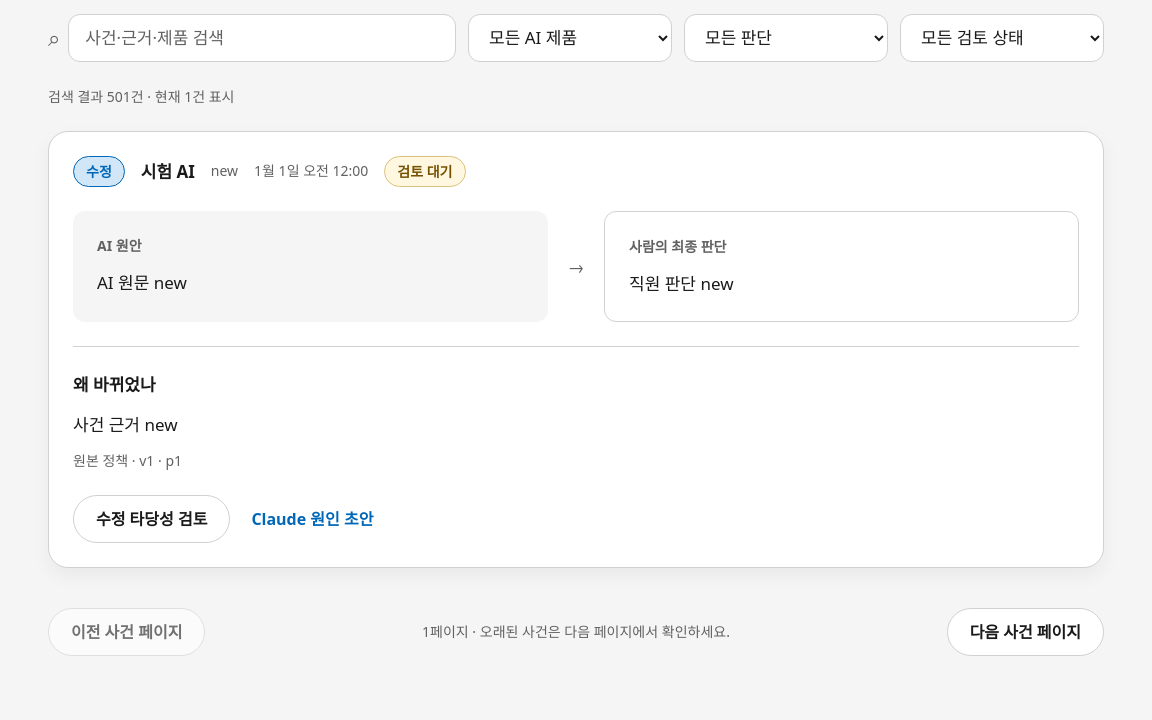
Scenario: reaches a previous event page and submits the old source for actual validation
(page scrolled)
Check: the text "AI 원문 new" is shown, box [97, 271, 187, 294]
Click the button "다음 사건 페이지".
click(1025, 632)  # box [947, 608, 1104, 656]
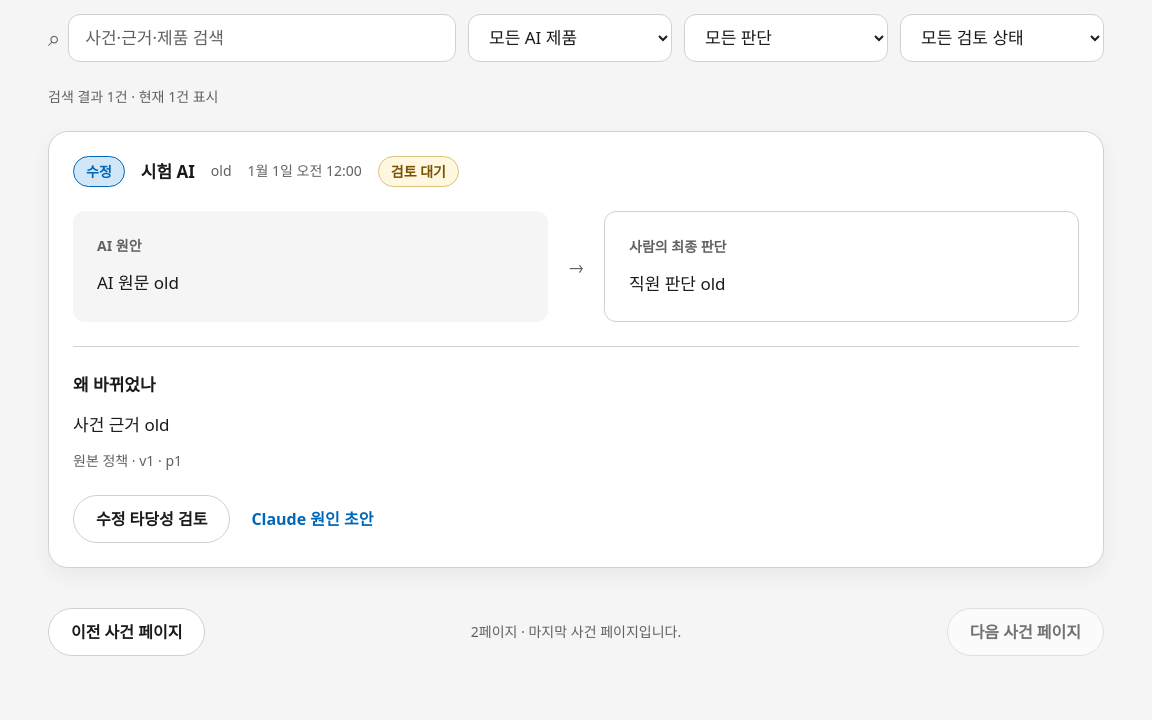
Check: the text "AI 원문 old" is shown, box [97, 271, 179, 294]
Check: the text "AI 원문 new" is gone
Click the button "수정 타당성 검토".
click(152, 519)  # box [73, 495, 230, 543]
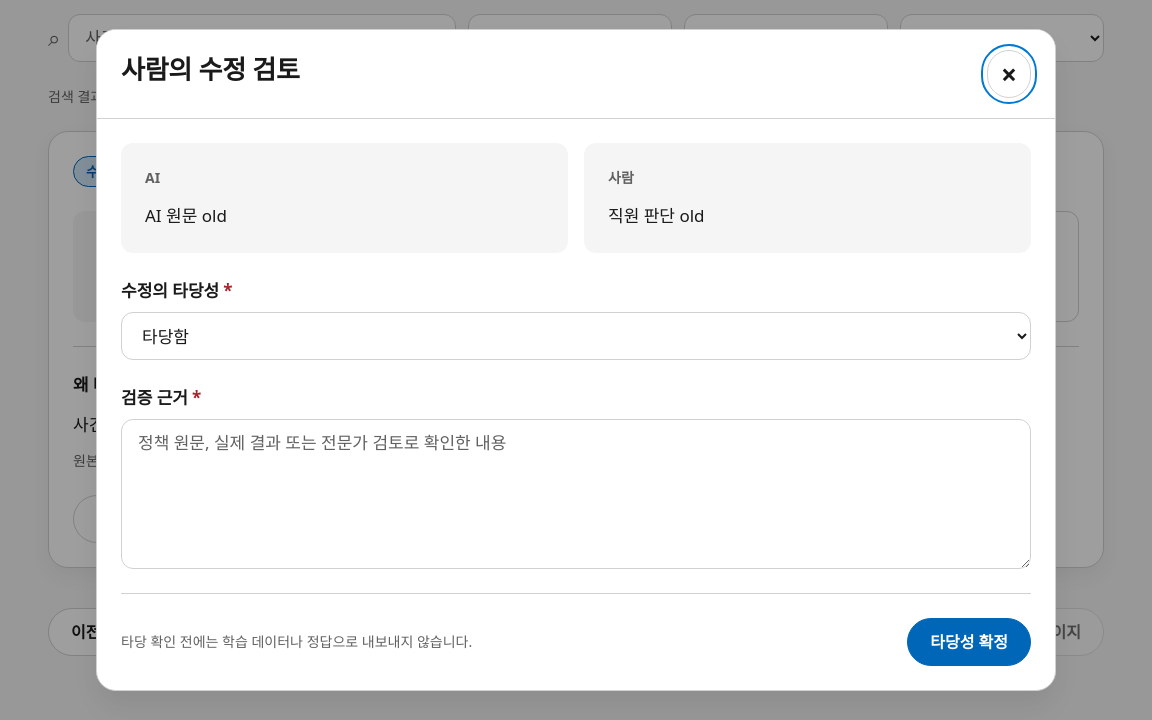
Check: the text "AI 원문 old" is shown, box [145, 204, 227, 227]
Type "원문 정책과 대조했습니다." into the text box labelled "검증 근거".
click(576, 494); type("원문 정책과 대조했습니다.")  # box [121, 419, 1031, 569]
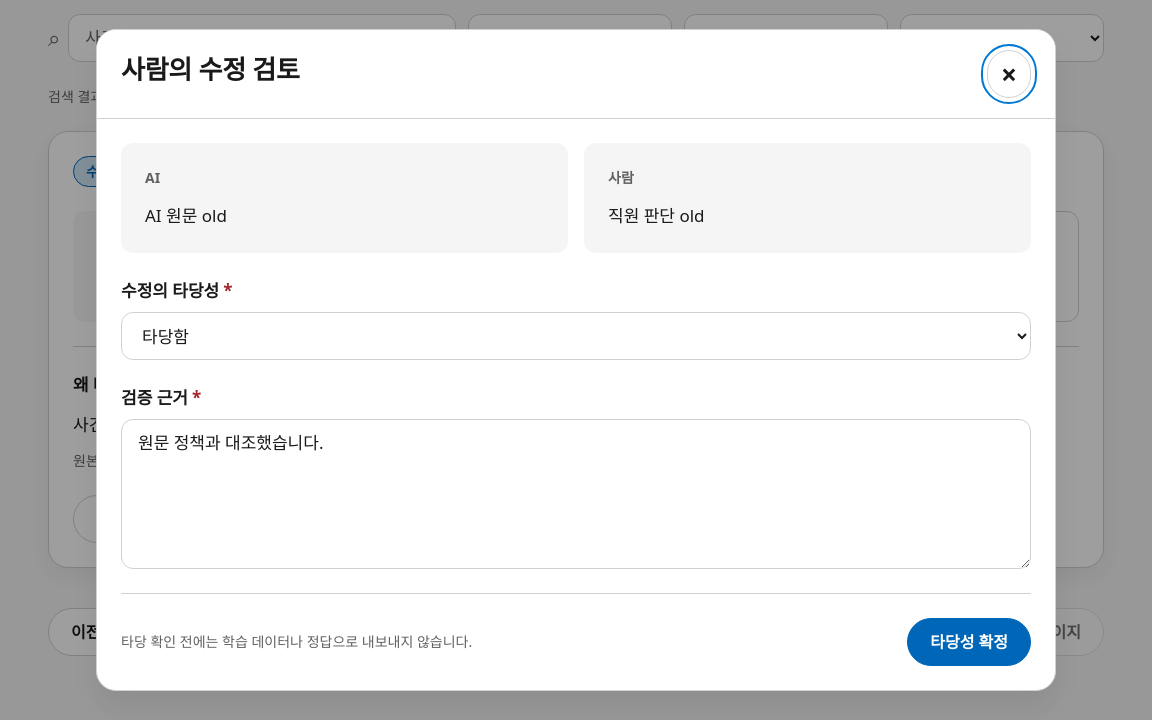
Submit the form, box [121, 143, 1031, 666]
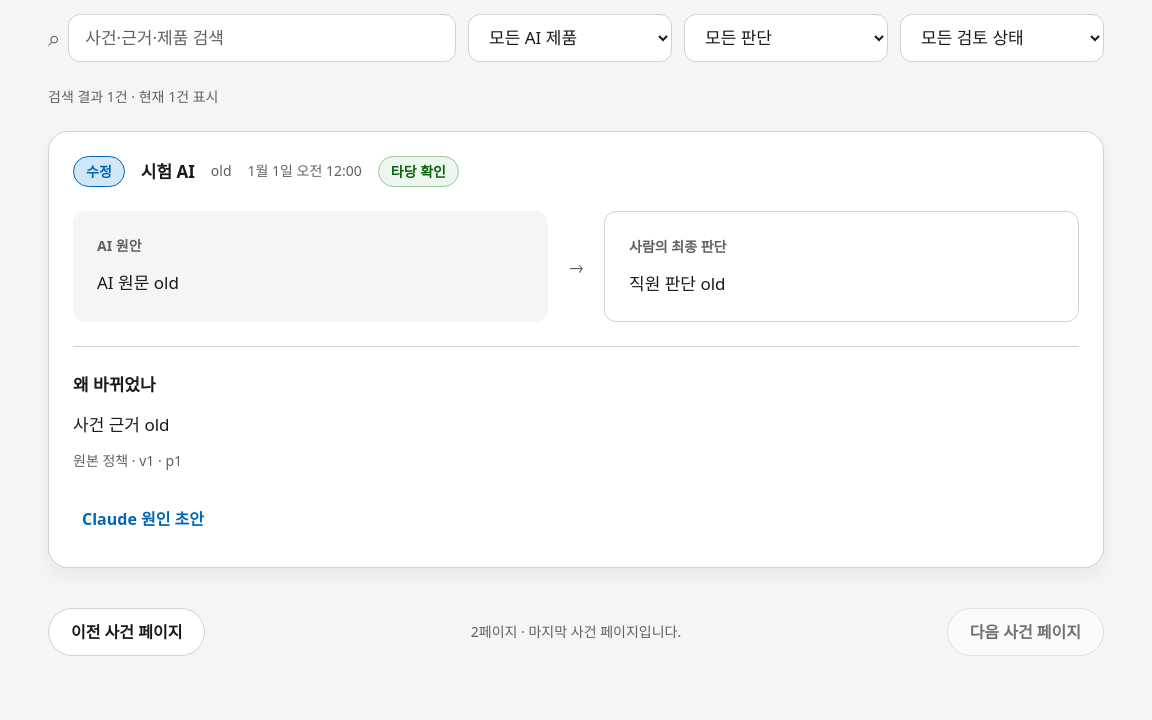
Check: the text "2페이지 · 마지막 사건 페이지입니다." is shown, box [471, 621, 681, 642]
Check: the text "타당 확인" is shown, box [378, 156, 459, 187]
Check: the button "수정 타당성 검토" is gone
